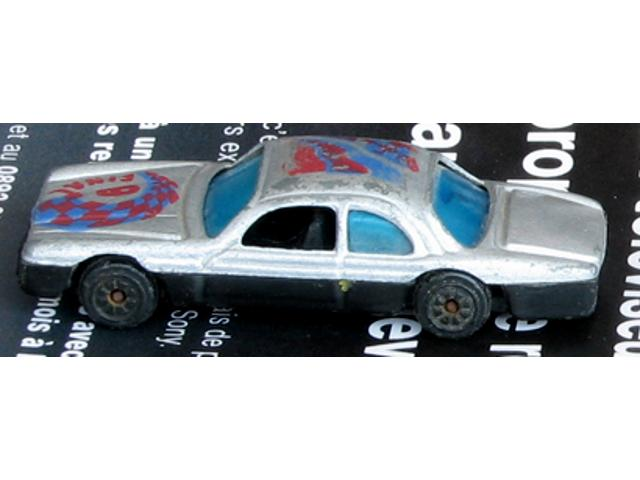toy-car: (15, 136, 608, 341)
